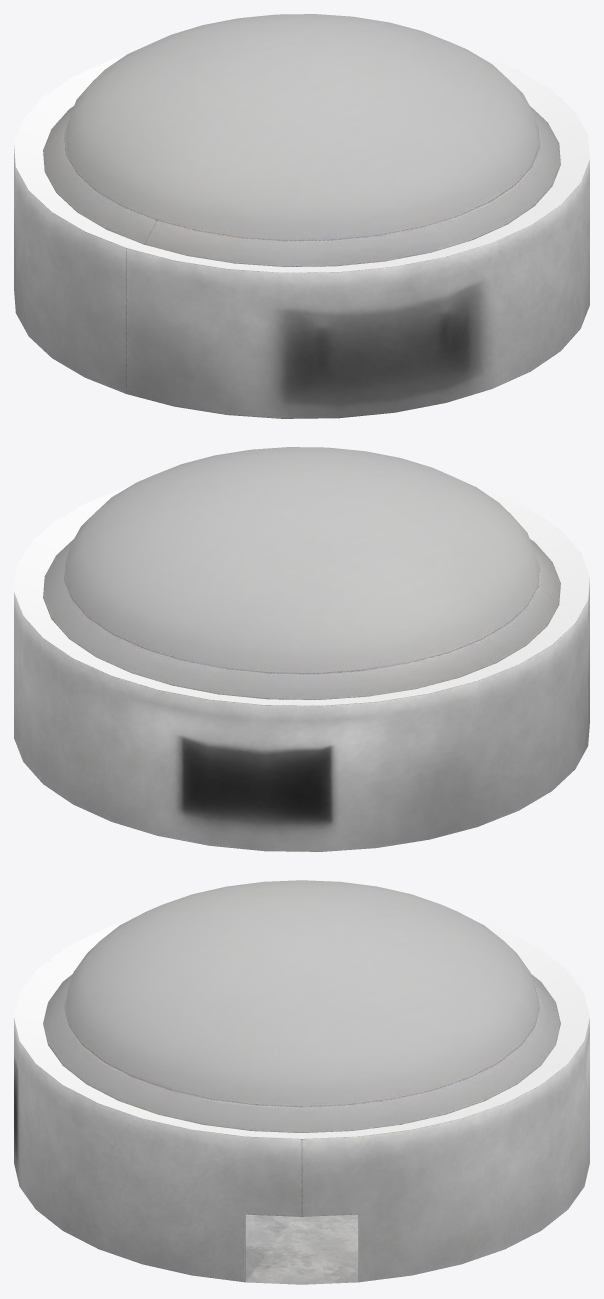
The model's file is Space.glb.
3 views of the same model, one above another, from view 1: azimuth 30°, elevation 25°; view 2: azimuth 150°, elevation 25°; view 3: azimuth 270°, elevation 25° (orthographic).
Parts seen in each view (by area): view 1: Space.002; view 2: Space.002; view 3: Space.002.
Part boxes in pixels (x1=…): Space.002: x1=14, y1=14, x2=589, y2=418; Space.002: x1=14, y1=447, x2=589, y2=851; Space.002: x1=14, y1=880, x2=589, y2=1284.
Bounding box in the file's own units: 20 × 8.95 × 20.
Materials: 3 (3 with a texture image).
